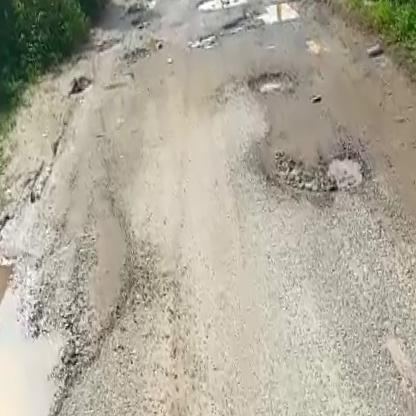pothole: (275, 139, 375, 208), (250, 0, 311, 27), (247, 69, 294, 96), (194, 0, 248, 14)
